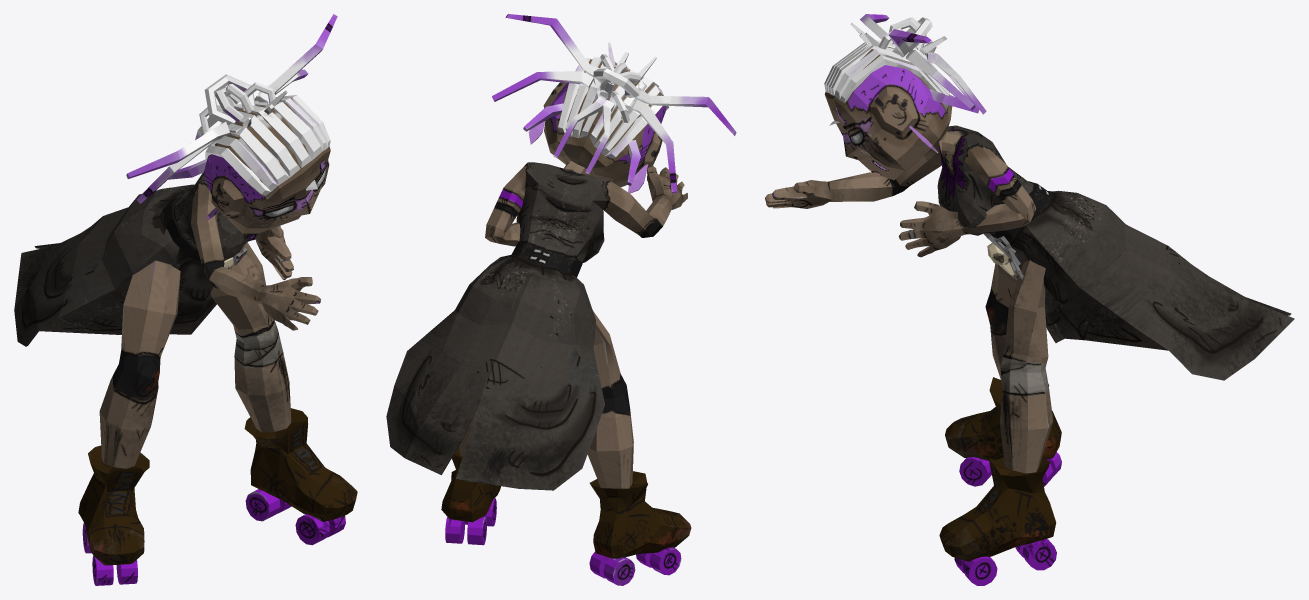
The model's file is bruja_000014.obj.
3 views of the same model, side by side, from view 1: azimuth 30°, elevation 25°; view 2: azimuth 150°, elevation 25°; view 3: azimuth 270°, elevation 25° (orthographic). The views are drawn at different scales.
Parts seen in each view (by area): view 1: Bruja_Plane.001; view 2: Bruja_Plane.001; view 3: Bruja_Plane.001.
Part boxes in pixels (x1=…): Bruja_Plane.001: x1=14, y1=14, x2=357, y2=585; Bruja_Plane.001: x1=386, y1=14, x2=736, y2=585; Bruja_Plane.001: x1=765, y1=14, x2=1294, y2=585.
Bounding box in the file's own units: 8.04 × 15.65 × 14.04.
